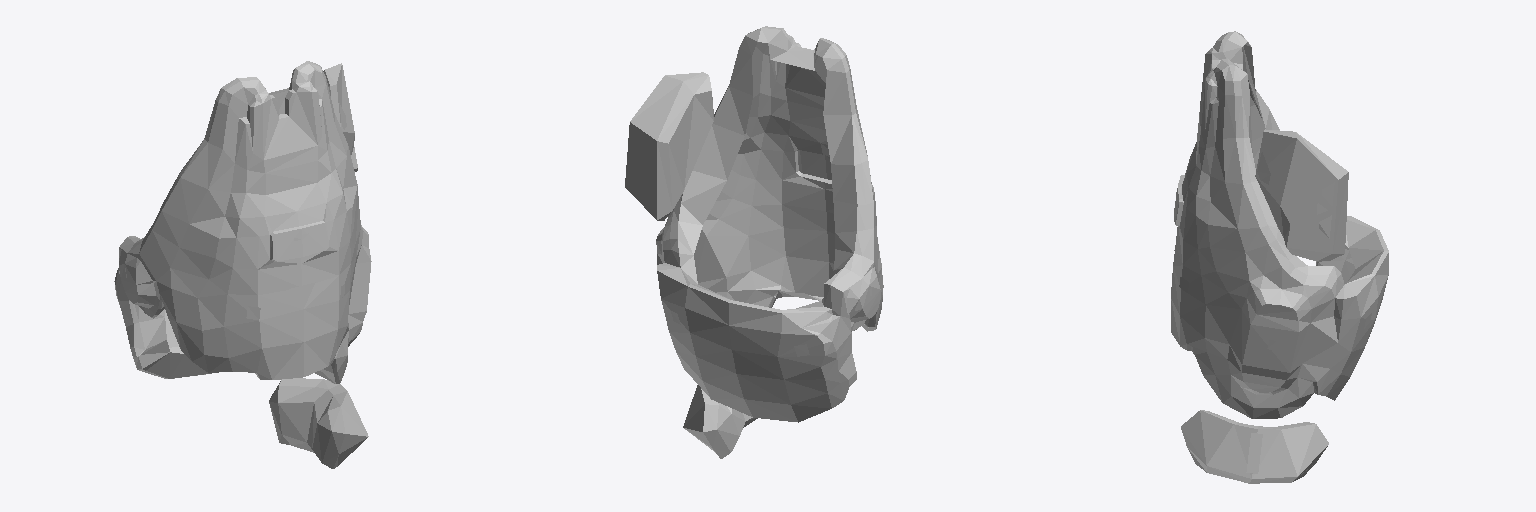
Rendered from XG89 Narrow Legs Right Thigh MALE.obj.
The picture shows the model from 3 angles: view 1: azimuth 30°, elevation 25°; view 2: azimuth 150°, elevation 25°; view 3: azimuth 270°, elevation 25°; orthographic projection.
Parts seen in each view (by area): view 1: armor_legs_stealth.001; view 2: armor_legs_stealth.001; view 3: armor_legs_stealth.001.
Boxes of the visible parts, <box> form: armor_legs_stealth.001: <box>114,61,371,468</box>; armor_legs_stealth.001: <box>625,26,883,458</box>; armor_legs_stealth.001: <box>1171,31,1388,483</box>.
Size of the model in its own units: 10.6 by 17.75 by 8.58.